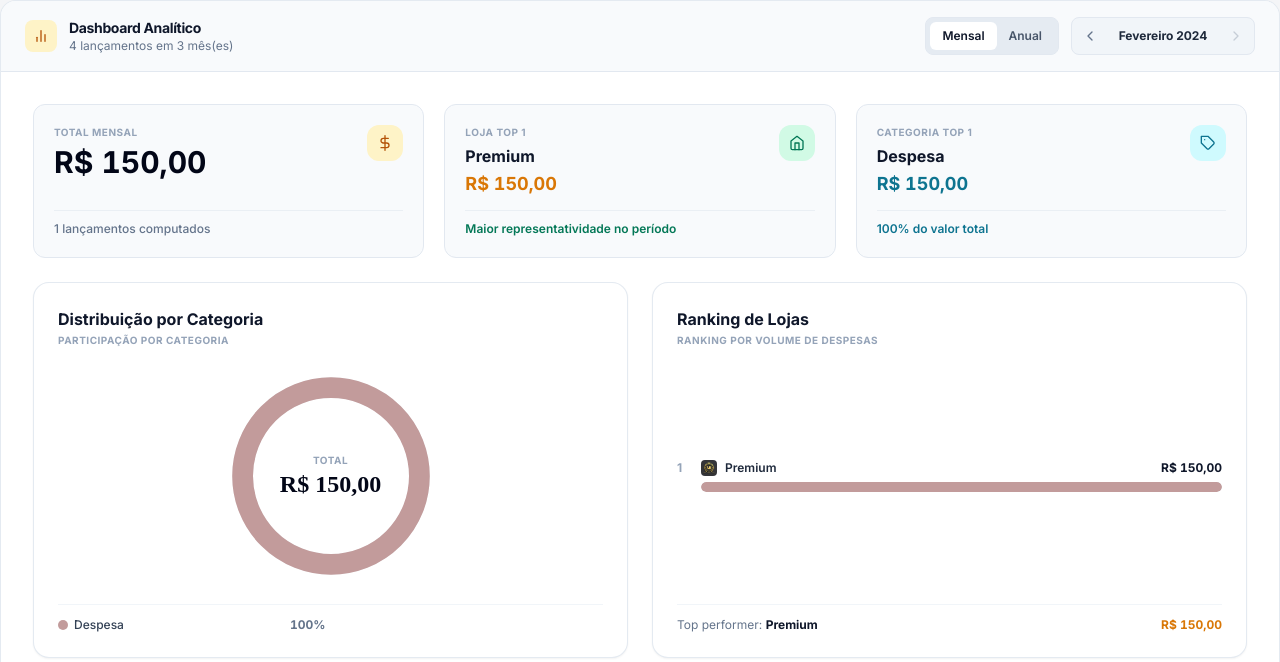
Test: ExpenseAnalytics › view mode toggle › should switch to yearly mode on click
Click the button "Anual". click: x=1025, y=36
box: [996,22,1054,50]
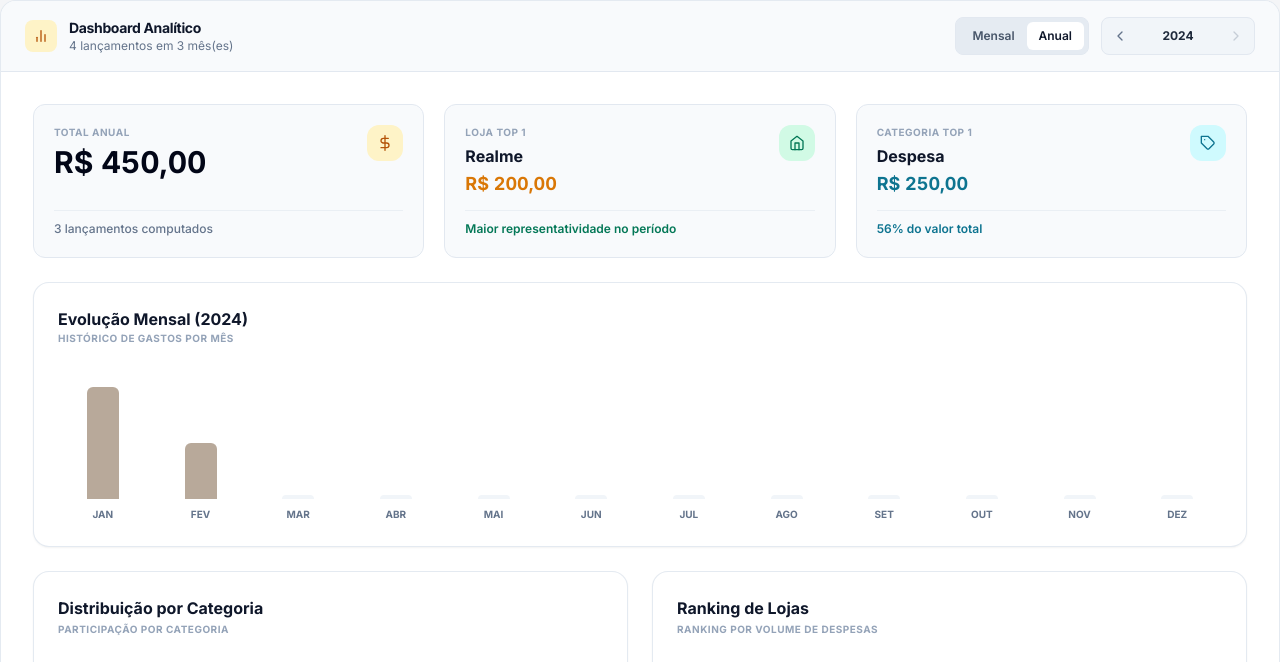
Expected: the text "Total Anual" is shown, [54,126,130,138]
